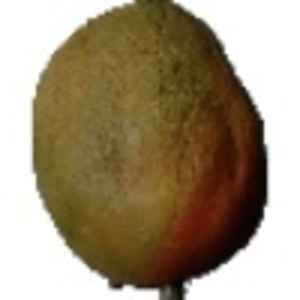mamão: (30, 3, 272, 288)
